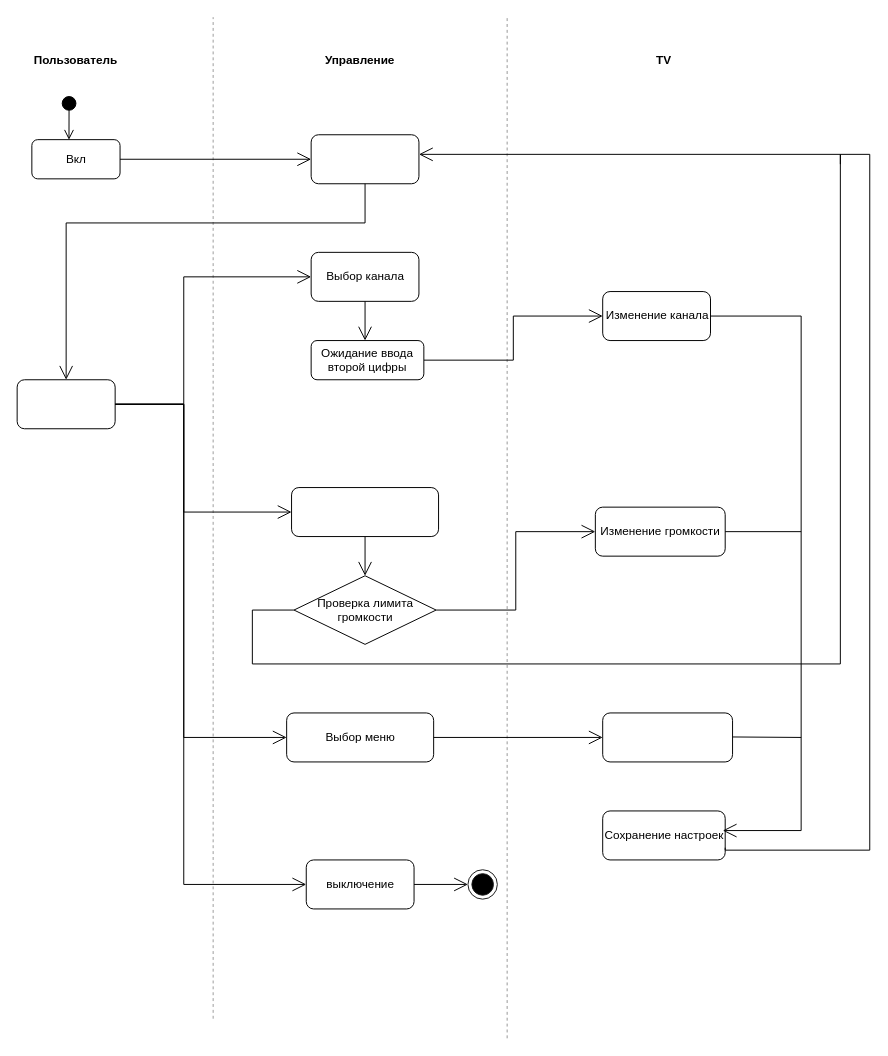
Some shapes in this 888 by 1056 pixel diagram are drawn without their labels. Here are the shapes that lost their labels. From the top down, the centre of each, then its label:
At pixel 364 159: "Ожидание ввода".
At pixel 65 404: "Нажатие кнопки".
At pixel 365 512: "Нажатие кнопок громкости".
At pixel 667 737: "Изменение настроек".
